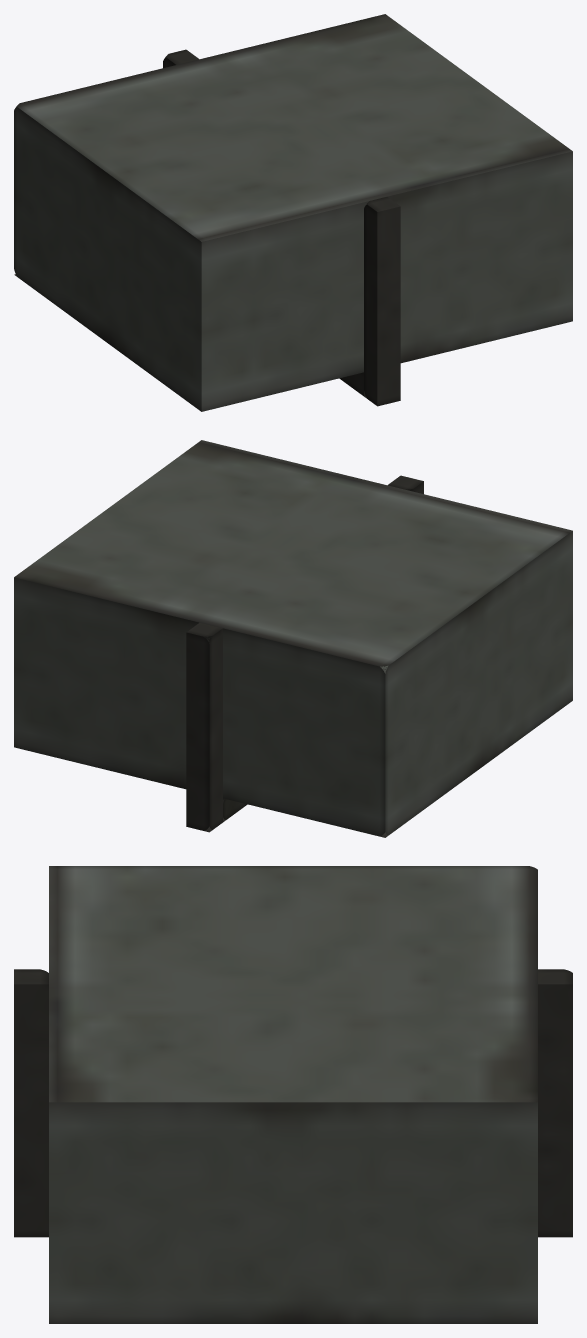
File: ceiling_vent.obj
3 views of the same model, one above another, from view 1: azimuth 30°, elevation 25°; view 2: azimuth 150°, elevation 25°; view 3: azimuth 270°, elevation 25° (orthographic). The views are drawn at different scales.
Visible parts, largest first — view 1: nz, ny; view 2: nz, nx; view 3: nz, nx, ny.
Part boxes in pixels (x1,y1,x2,y2): nz: (14, 14, 572, 411); ny: (364, 196, 400, 406); nz: (14, 440, 572, 837); nx: (186, 622, 222, 832); nz: (49, 866, 537, 1323); nx: (538, 969, 572, 1237); ny: (14, 969, 48, 1237).
Bounding box in the file's own units: 1 × 0.5 × 1.
1 material, 1 textured.
